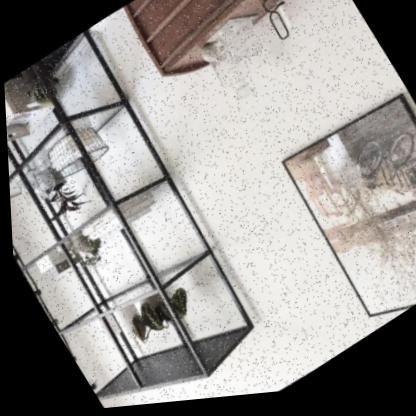Shelf: (1, 14, 282, 416)
